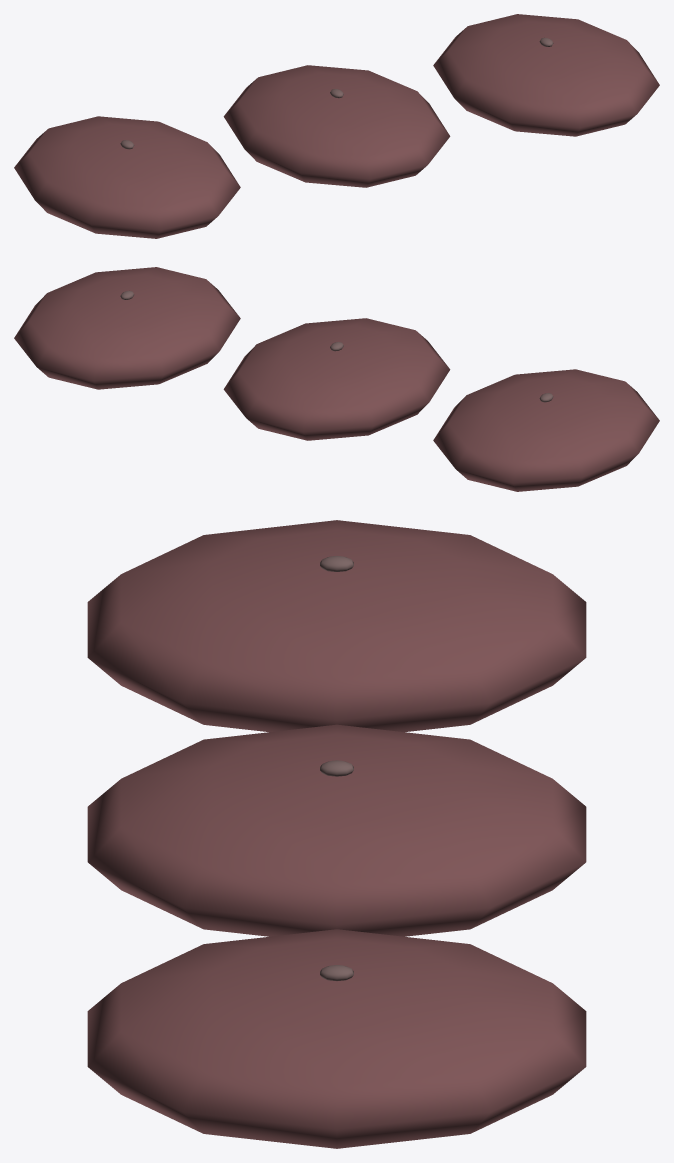
File: kneeling_cushions.glb
The picture shows the model from 3 angles, top to bottom: view 1: azimuth 30°, elevation 25°; view 2: azimuth 150°, elevation 25°; view 3: azimuth 270°, elevation 25°; orthographic projection. The views are drawn at different scales.
Visible parts, largest first — view 1: kneeling_cushions; view 2: kneeling_cushions; view 3: kneeling_cushions.
Part boxes in pixels (box(x1,y1,x2,y2)): kneeling_cushions: box(14, 14, 659, 238); kneeling_cushions: box(14, 267, 659, 491); kneeling_cushions: box(87, 520, 586, 1148).
Bounding box in the file's own units: 2.8 × 0.3 × 1.
Materials: 1 (1 with a texture image).
